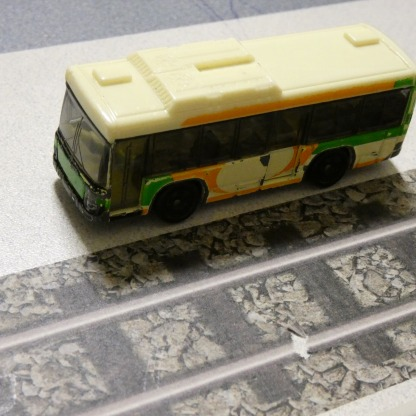car: (56, 20, 416, 225)
